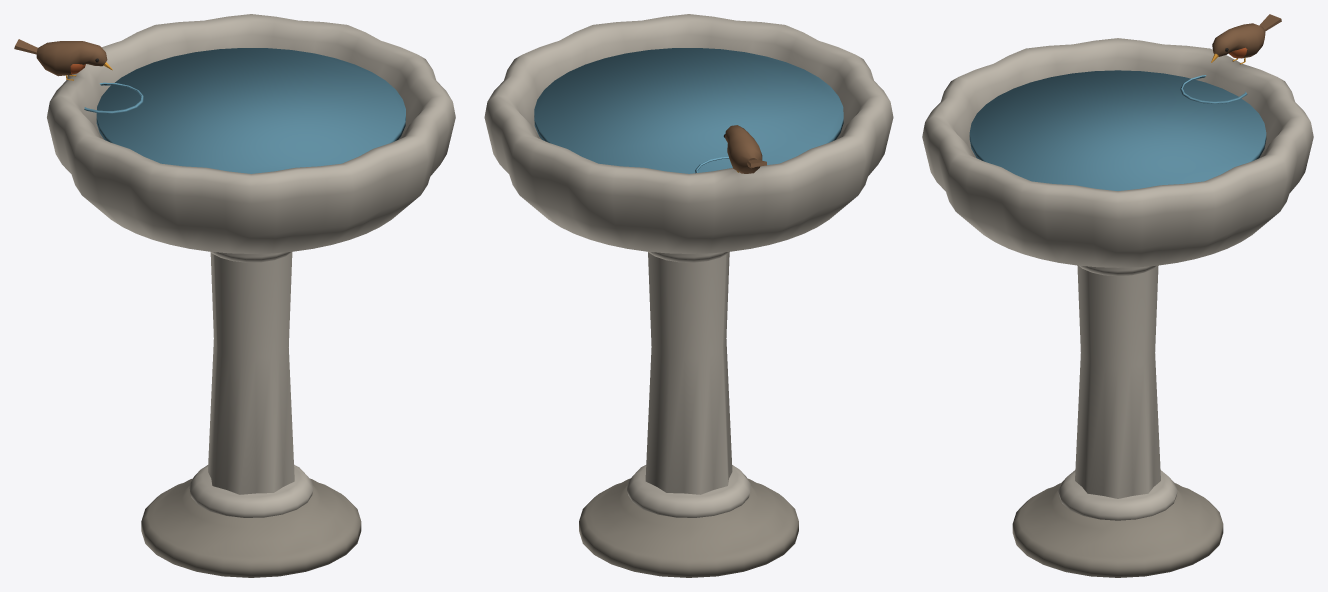
The model's file is birdbath.glb.
3 views of the same model, side by side, from view 1: azimuth 30°, elevation 25°; view 2: azimuth 150°, elevation 25°; view 3: azimuth 270°, elevation 25° (orthographic). The views are drawn at different scales.
Parts seen in each view (by area): view 1: birdbath; view 2: birdbath; view 3: birdbath.
Part boxes in pixels (x1,y1,x2,y2): birdbath: [14, 14, 455, 577]; birdbath: [484, 14, 893, 577]; birdbath: [922, 14, 1313, 577].
Size of the model in its own units: 0.7072 by 0.9009 by 0.7072.
